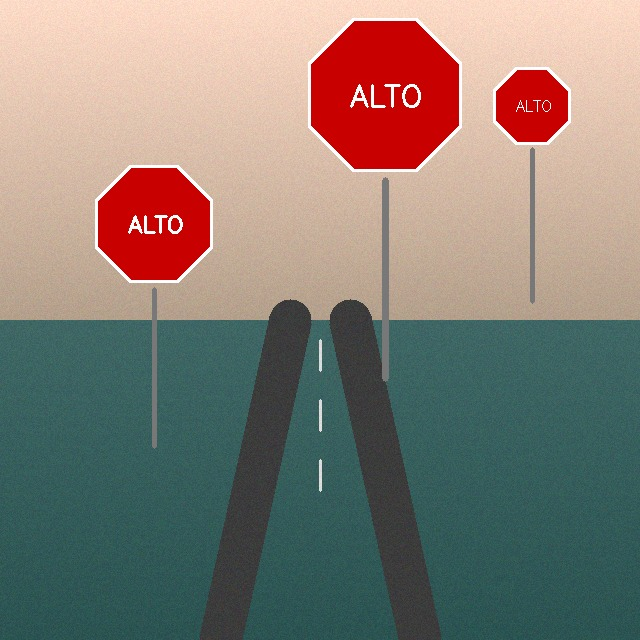alto: (301, 11, 470, 180), (90, 160, 219, 289), (489, 63, 575, 149)
